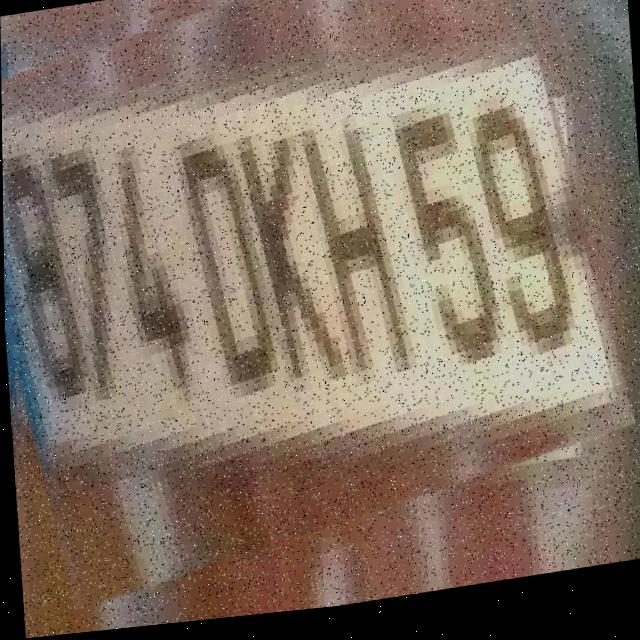LicensePlate: (0, 0, 617, 596)
